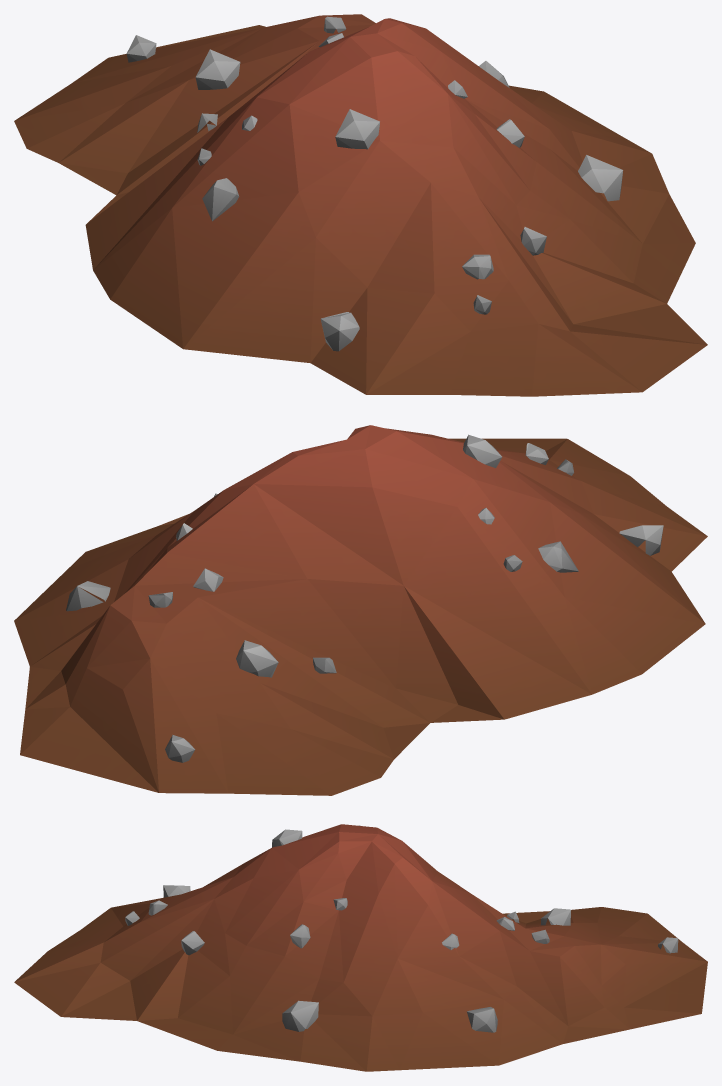
The model's file is earthpile.glb.
3 views of the same model, one above another, from view 1: azimuth 30°, elevation 25°; view 2: azimuth 150°, elevation 25°; view 3: azimuth 270°, elevation 25° (orthographic). The views are drawn at different scales.
Parts seen in each view (by area): view 1: EarthPile_mesh1; view 2: EarthPile_mesh1; view 3: EarthPile_mesh1.
Part boxes in pixels (x1=…): EarthPile_mesh1: x1=14, y1=14, x2=707, y2=396; EarthPile_mesh1: x1=14, y1=425, x2=707, y2=795; EarthPile_mesh1: x1=14, y1=824, x2=707, y2=1071.
Bounding box in the file's own units: 2.73 × 0.8711 × 4.05.
Materials: 1 (1 with a texture image).
